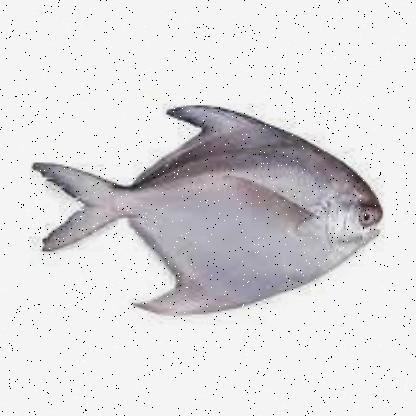ikan-pacu: (38, 104, 384, 312)
